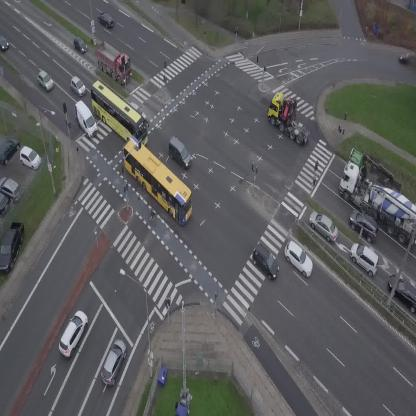bicycle: (148, 209, 156, 225)
bus: (111, 135, 204, 226), (79, 78, 158, 151)
car: (53, 308, 92, 359), (278, 238, 319, 280), (343, 206, 386, 245), (98, 337, 131, 387), (344, 239, 385, 278), (304, 207, 344, 245), (247, 242, 285, 281), (162, 136, 197, 170), (33, 69, 56, 94), (67, 75, 89, 98), (68, 35, 90, 57), (95, 9, 117, 30), (130, 100, 147, 118), (400, 52, 416, 64), (0, 32, 8, 50)
lorry: (259, 88, 322, 147), (346, 145, 407, 199), (86, 37, 140, 88), (69, 98, 101, 140)
